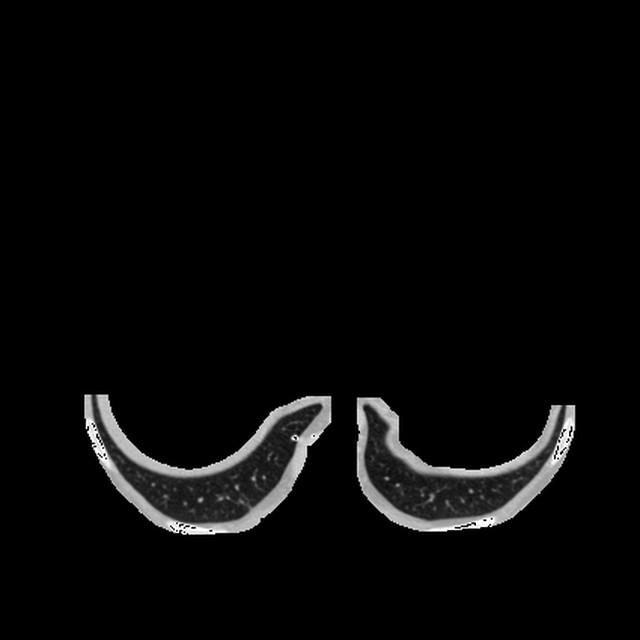PN: (291, 434, 297, 440)
